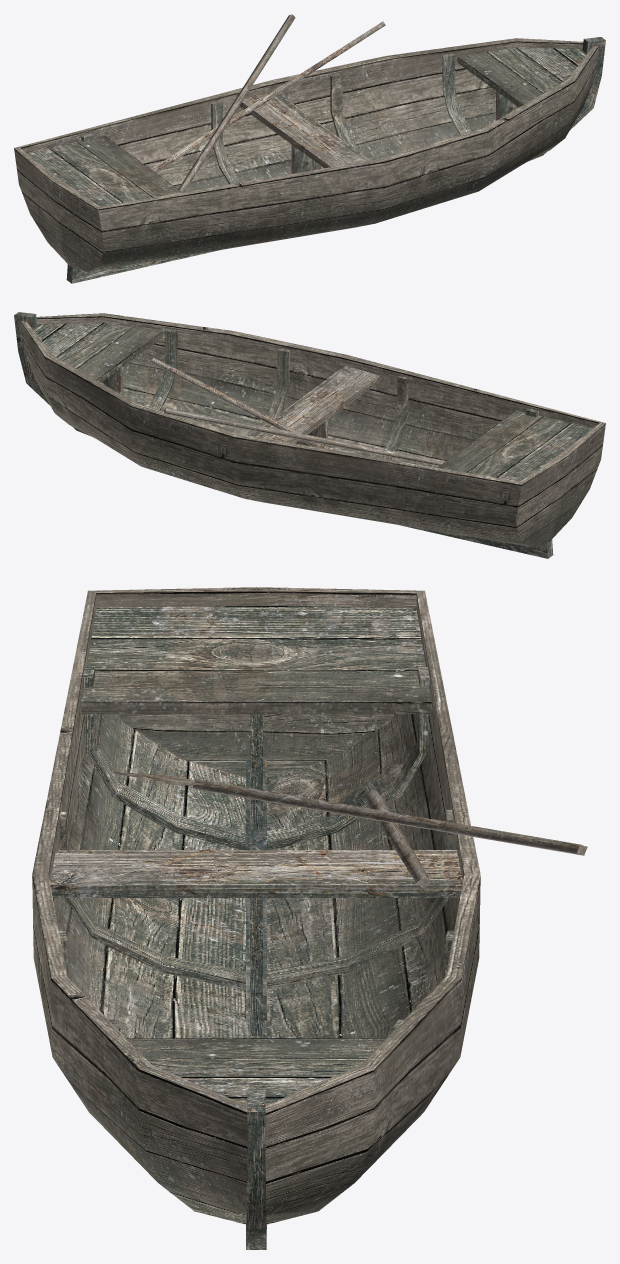
The model's file is Boat1_LOD1.fbx.
3 views of the same model, one above another, from view 1: azimuth 30°, elevation 25°; view 2: azimuth 150°, elevation 25°; view 3: azimuth 270°, elevation 25° (orthographic). The views are drawn at different scales.
Parts seen in each view (by area): view 1: polySurface1039; view 2: polySurface1039; view 3: polySurface1039.
Part boxes in pixels (<box>): polySurface1039: <box>14,14,605,283</box>; polySurface1039: <box>14,312,605,558</box>; polySurface1039: <box>32,587,587,1249</box>.
Size of the model in its own units: 5.41 by 1.38 by 2.35.
